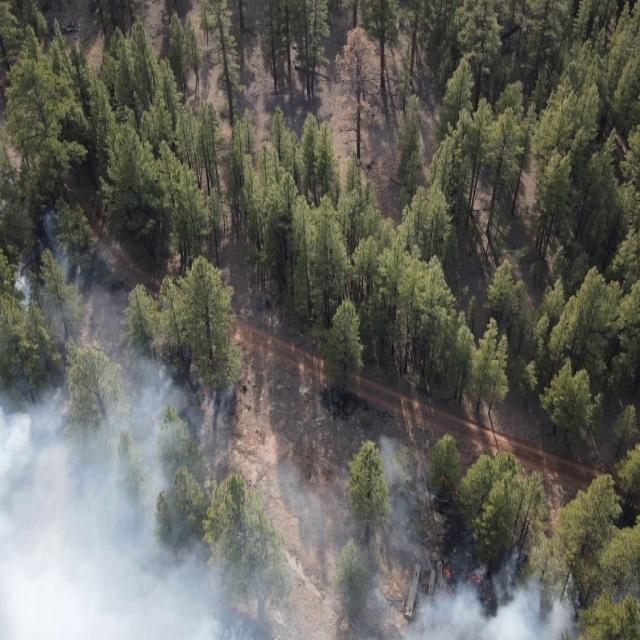fire: (439, 563, 496, 603), (196, 386, 213, 414)
smoke: (0, 354, 193, 640), (192, 435, 424, 640), (423, 551, 585, 640), (16, 212, 84, 353)
